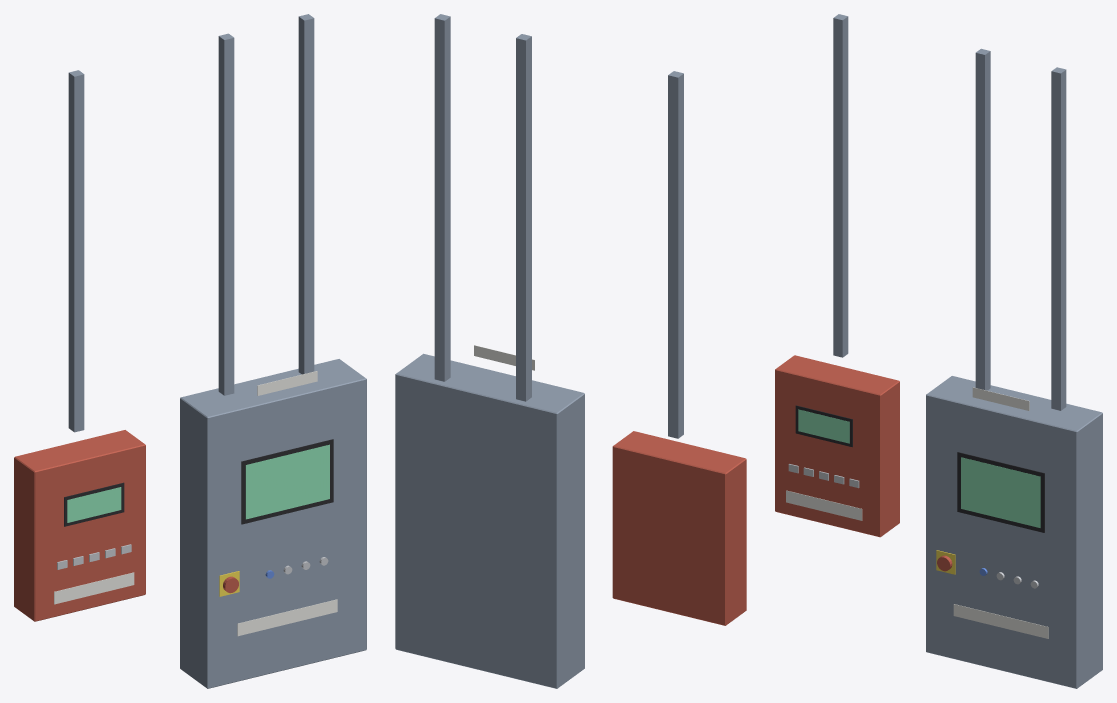
The model's file is plant_panel.fbx.
The picture shows the model from 3 angles, left to right: view 1: azimuth 30°, elevation 25°; view 2: azimuth 150°, elevation 25°; view 3: azimuth 330°, elevation 25°; orthographic projection. The views are drawn at different scales.
Visible parts, largest first — view 1: Panels; view 2: Panels; view 3: Panels.
Boxes of the visible parts, x1,y1,x2,y2 form: Panels: (14,14,366,688); Panels: (395,14,746,688); Panels: (775,14,1102,688).
Bounding box in the file's own units: 1.63 × 3 × 0.264.
